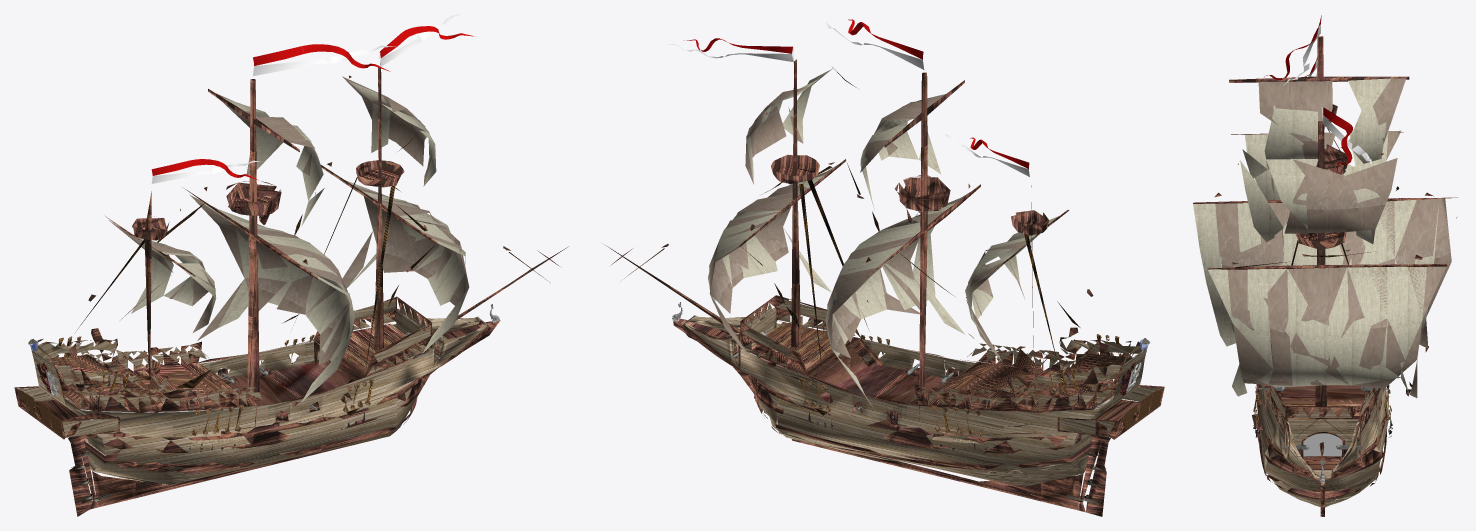
3 views of the same model, side by side, from view 1: azimuth 30°, elevation 25°; view 2: azimuth 150°, elevation 25°; view 3: azimuth 270°, elevation 25° (orthographic). The views are drawn at different scales.
Bounding box in the file's own units: 32.94 × 24.27 × 13.38.
20 materials, 16 textured.
